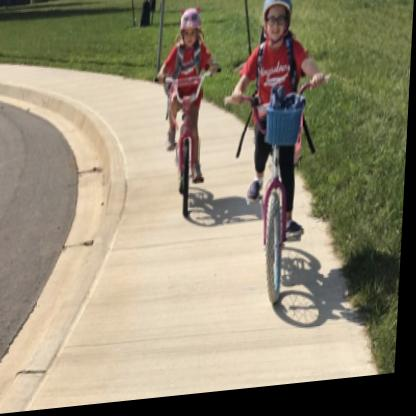With Helmet: (255, 0, 300, 55), (173, 2, 205, 58)
